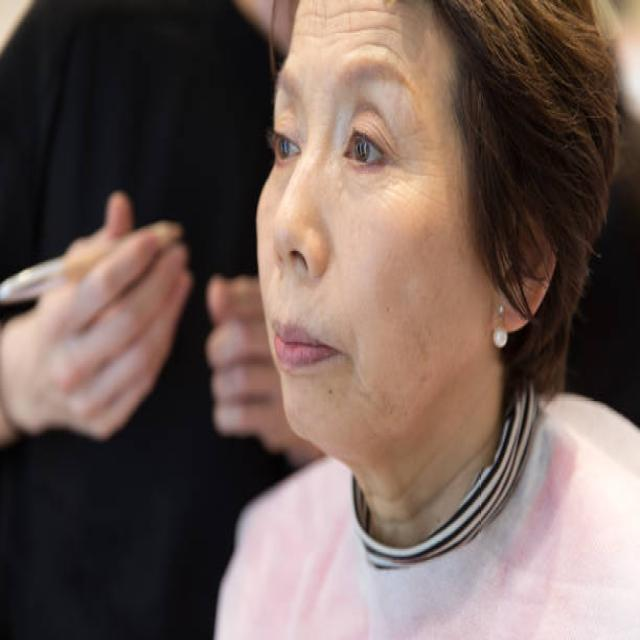Dry-Skin: (399, 122, 476, 388)
